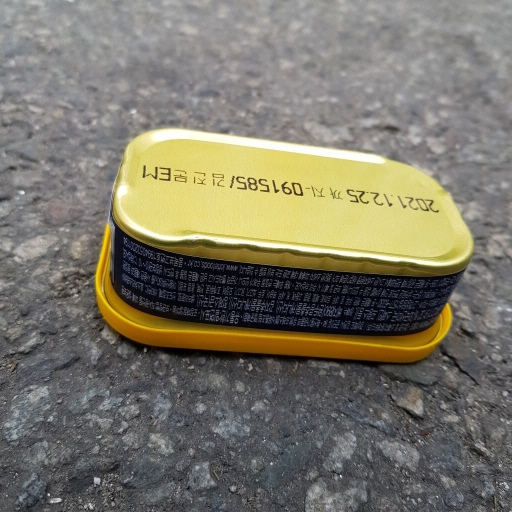Metal_2: (92, 128, 477, 366)
